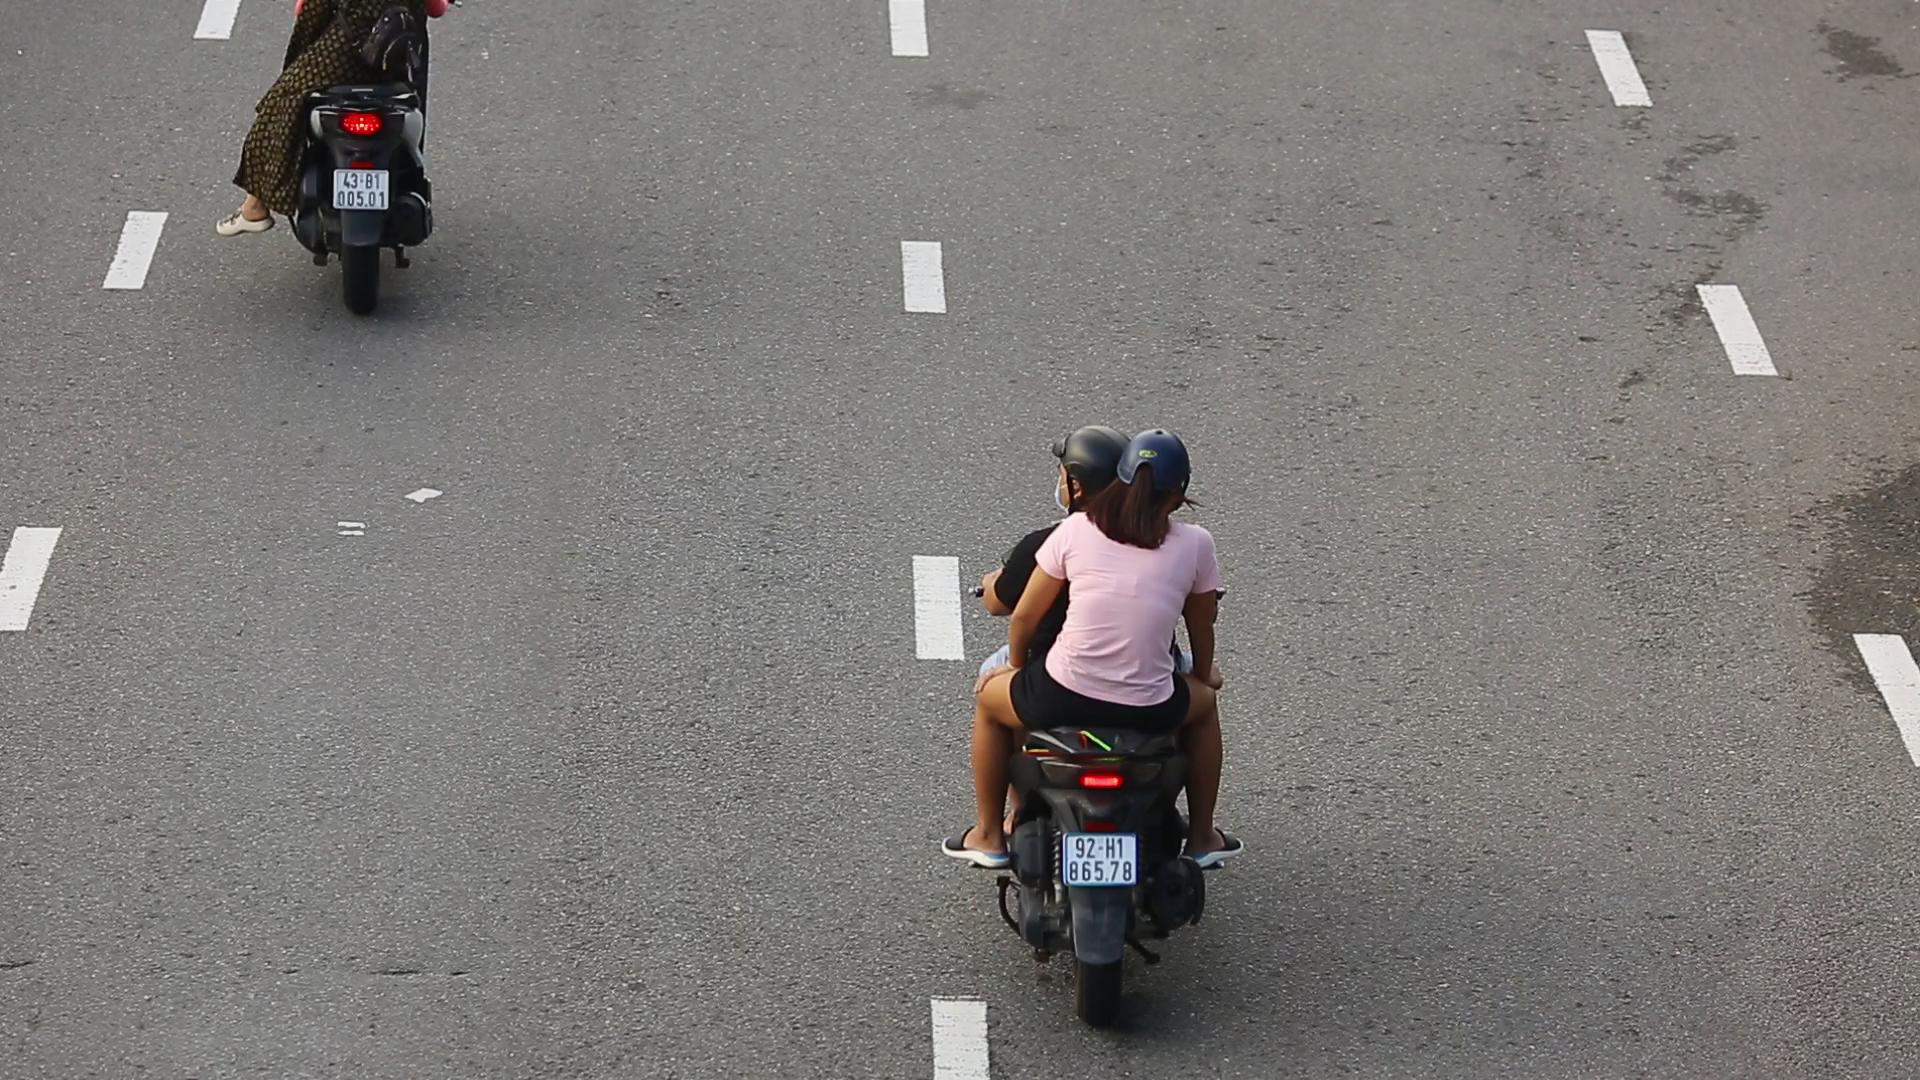motobike: (918, 414, 1251, 1036)
